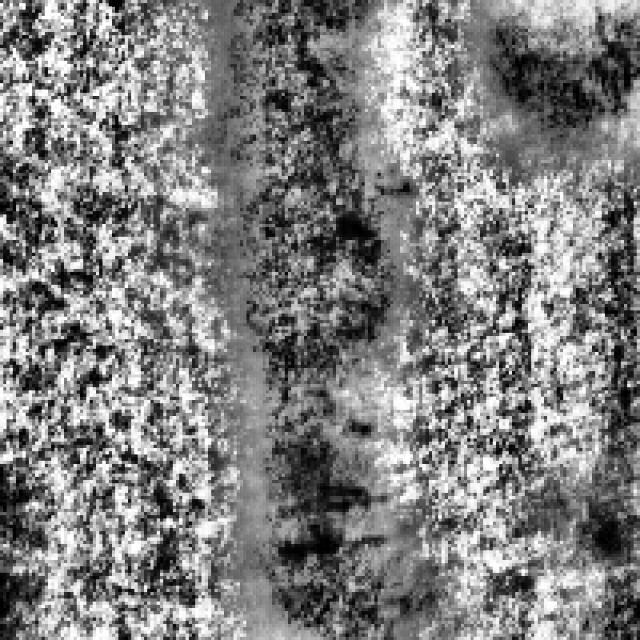Scratches: (202, 0, 404, 429), (231, 400, 428, 637), (470, 0, 636, 144)
